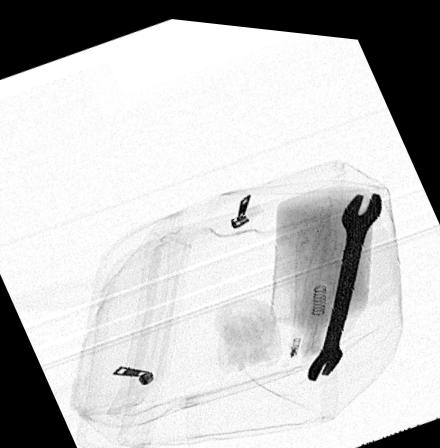Wrench: (306, 180, 385, 373)
